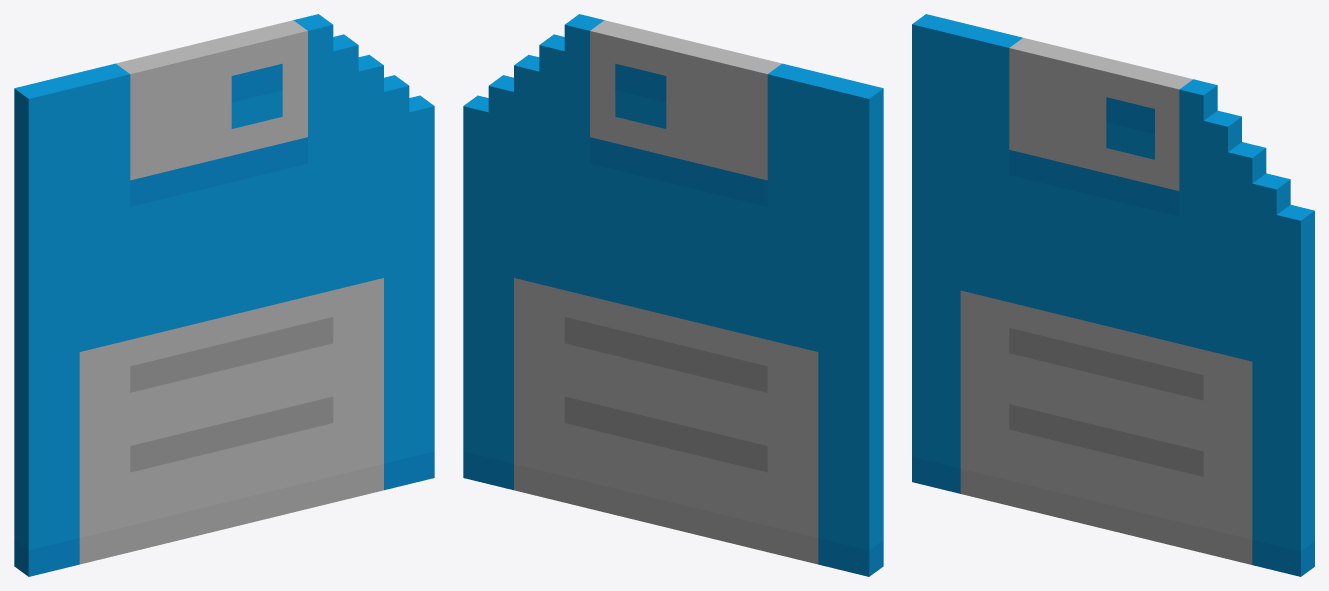
File: save_icon.glb
3 renders of one model, left to right at view 1: azimuth 30°, elevation 25°; view 2: azimuth 150°, elevation 25°; view 3: azimuth 330°, elevation 25°, orthographic. The views are drawn at different scales.
Parts seen in each view (by area): view 1: VoxTransform; view 2: VoxTransform; view 3: VoxTransform.
Boxes of the visible parts, x1,y1,x2,y2 form: VoxTransform: (14,14,434,576); VoxTransform: (463,14,883,576); VoxTransform: (912,14,1314,576).
Bounding box in the file's own units: 16 × 18 × 1.
